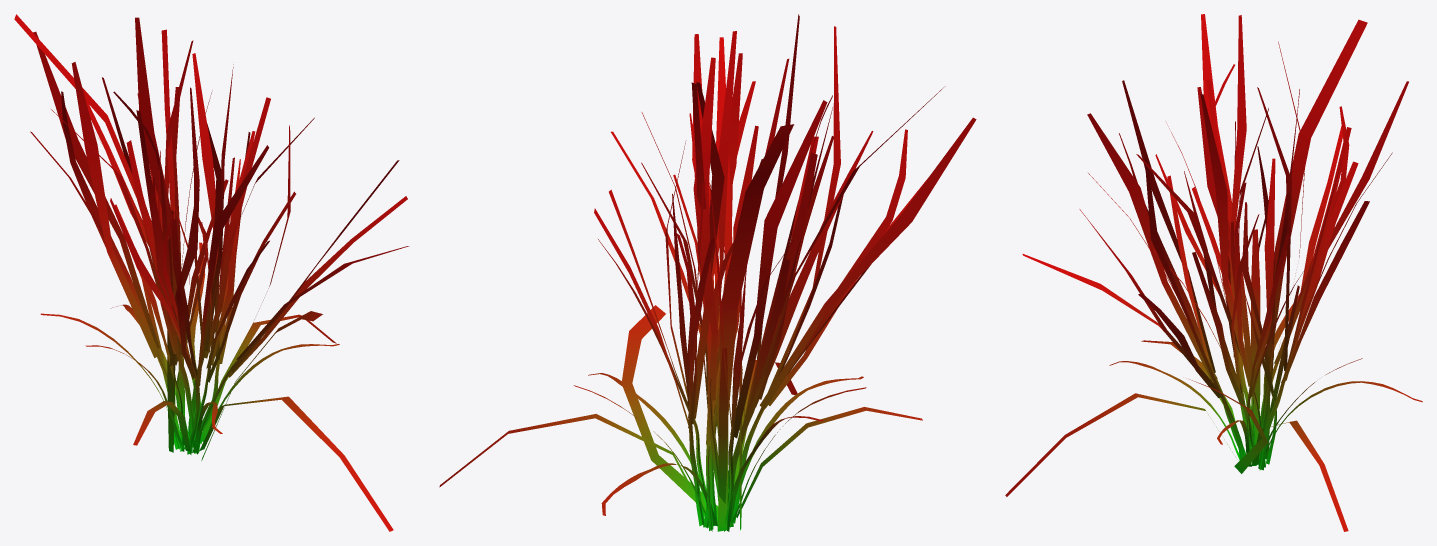
The model's file is Lemongrass_LOD2_Var3_sktne.fbx.
3 views of the same model, side by side, from view 1: azimuth 30°, elevation 25°; view 2: azimuth 150°, elevation 25°; view 3: azimuth 270°, elevation 25° (orthographic). The views are drawn at different scales.
Parts seen in each view (by area): view 1: _7013_Var3_LOD2; view 2: _7013_Var3_LOD2; view 3: _7013_Var3_LOD2.
Part boxes in pixels (bbox=[...]): _7013_Var3_LOD2: bbox=[14, 14, 409, 531]; _7013_Var3_LOD2: bbox=[439, 14, 976, 531]; _7013_Var3_LOD2: bbox=[1005, 14, 1422, 531].
Size of the model in its own units: 47.45 by 57.64 by 50.79.
